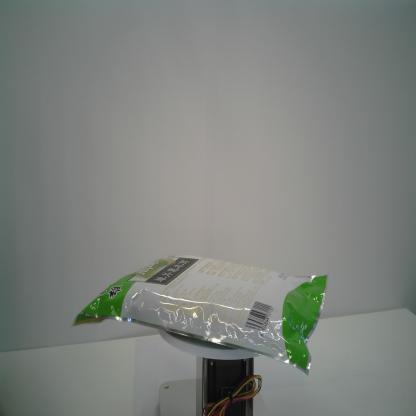Dried Food: (69, 250, 330, 379)
